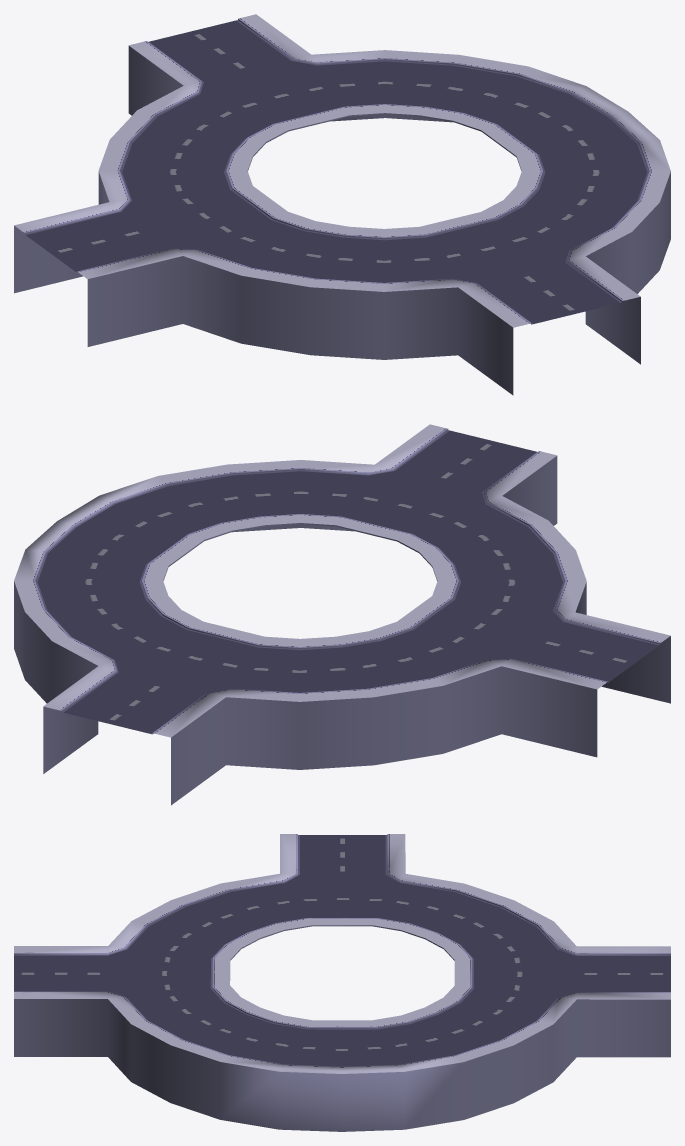
3 views of the same model, one above another, from view 1: azimuth 30°, elevation 25°; view 2: azimuth 150°, elevation 25°; view 3: azimuth 270°, elevation 25° (orthographic). The views are drawn at different scales.
Visible parts, largest first — view 1: Circle_2; view 2: Circle_2; view 3: Circle_2.
Part boxes in pixels (x1,y1,x2,y2): Circle_2: [14, 14, 670, 395]; Circle_2: [14, 424, 670, 805]; Circle_2: [14, 834, 670, 1131].
Size of the model in its own units: 90.64 by 10.2 by 105.
1 material, 1 textured.
